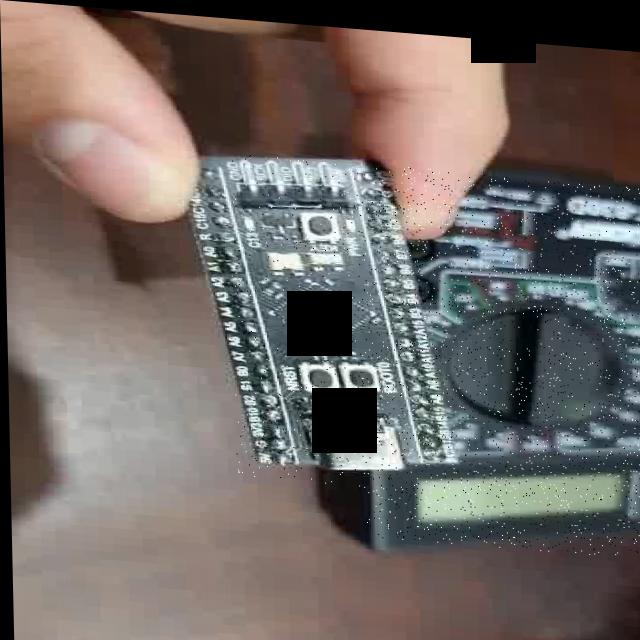multimeter: (355, 159, 640, 549)
stm32: (229, 149, 448, 486)
